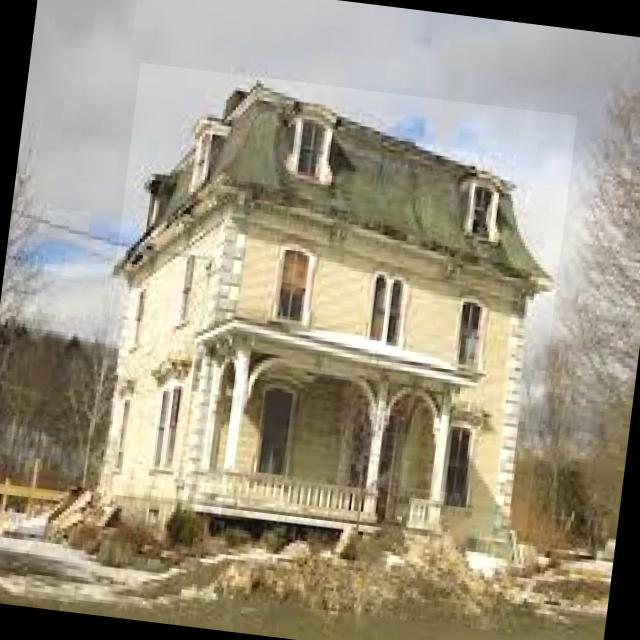House: (81, 62, 577, 594)
